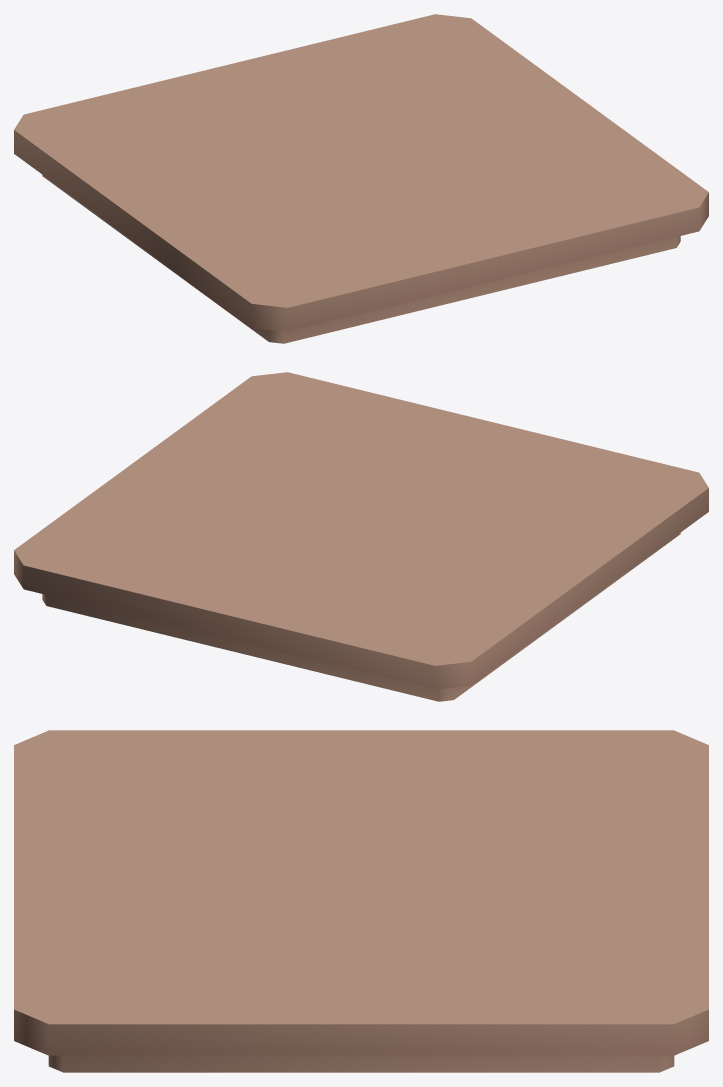
File: surface-edge.glb
3 views of the same model, one above another, from view 1: azimuth 30°, elevation 25°; view 2: azimuth 150°, elevation 25°; view 3: azimuth 270°, elevation 25° (orthographic). The views are drawn at different scales.
Parts seen in each view (by area): view 1: surface-edge; view 2: surface-edge; view 3: surface-edge.
Part boxes in pixels (bbox=[...]): surface-edge: bbox=[14, 14, 708, 343]; surface-edge: bbox=[14, 372, 708, 701]; surface-edge: bbox=[14, 730, 708, 1072].
Size of the model in its own units: 1 by 0.1 by 1.
